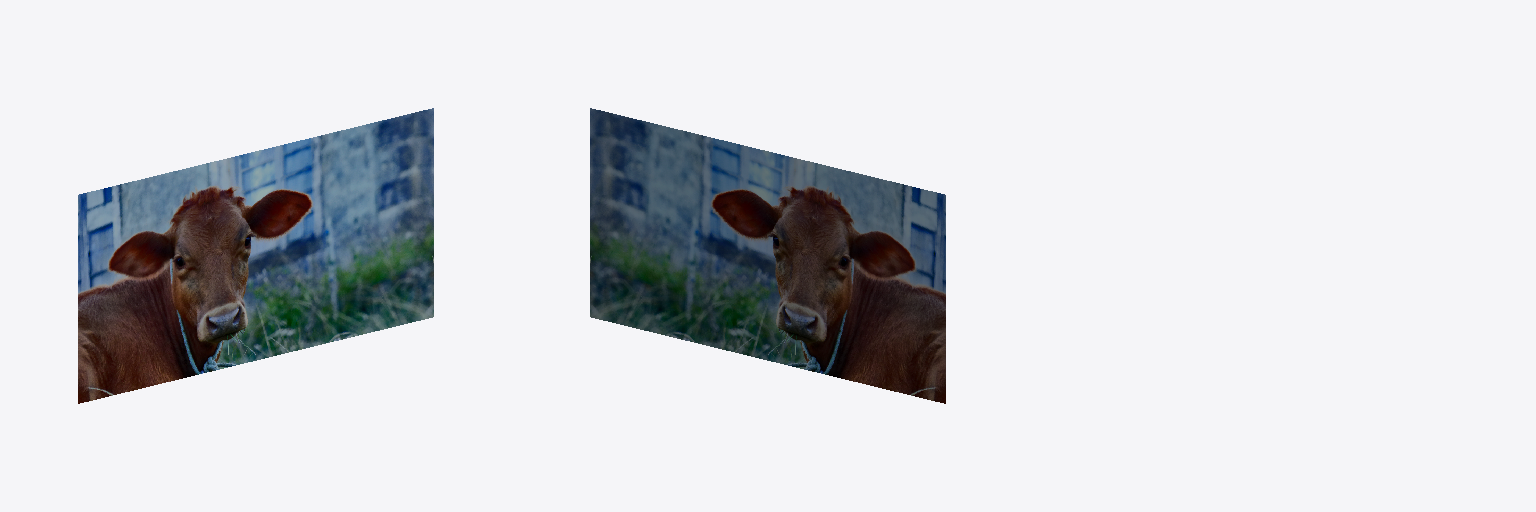
3 views of the same model, side by side, from view 1: azimuth 30°, elevation 25°; view 2: azimuth 150°, elevation 25°; view 3: azimuth 270°, elevation 25° (orthographic).
Parts seen in each view (by area): view 1: A_vaca(Buena); view 2: A_vaca(Buena); view 3: none.
Boxes of the visible parts, box(x1,y1,x2,y2) form: A_vaca(Buena): box(78, 108, 433, 403); A_vaca(Buena): box(590, 108, 945, 403).
Bounding box in the file's own units: 1.78 × 1 × 0.
Materials: 1 (1 with a texture image).